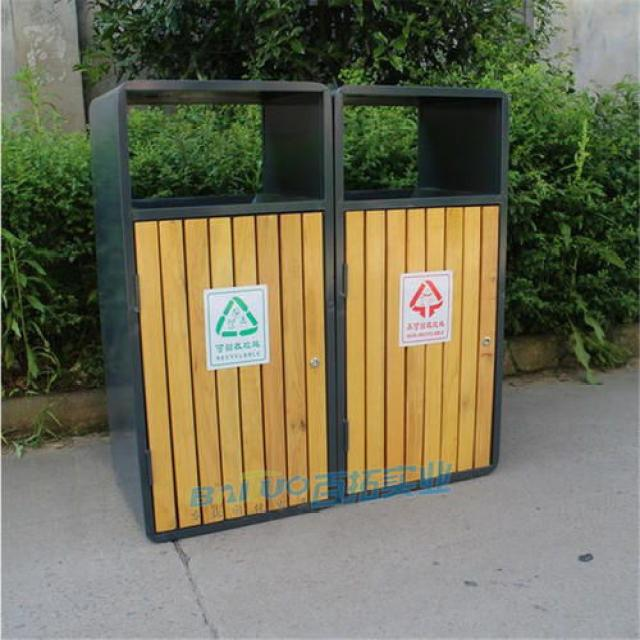garbage_bin: (88, 80, 508, 541)
